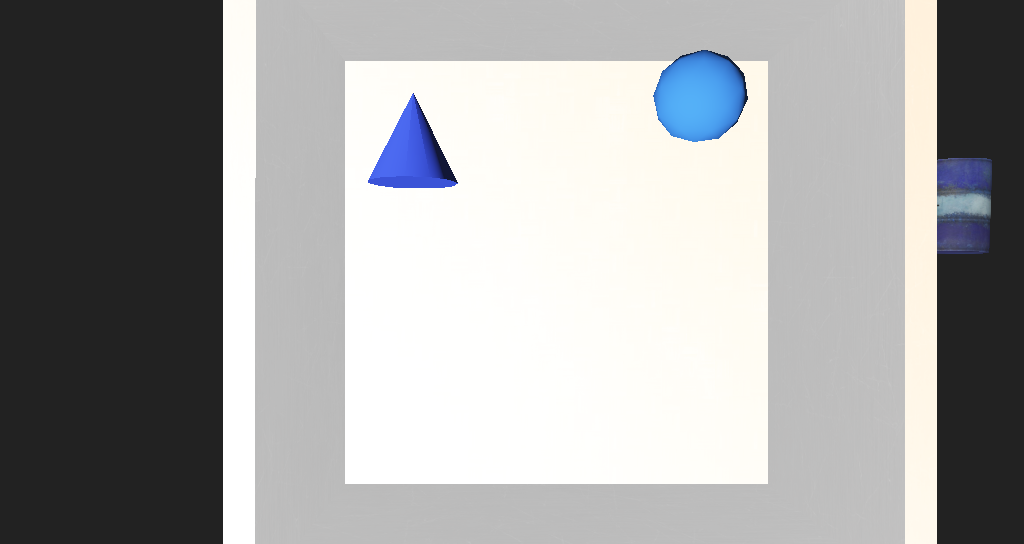cone: (748, 210, 815, 258)
cylinder: (371, 174, 438, 227)
sphere: (576, 157, 637, 205)
